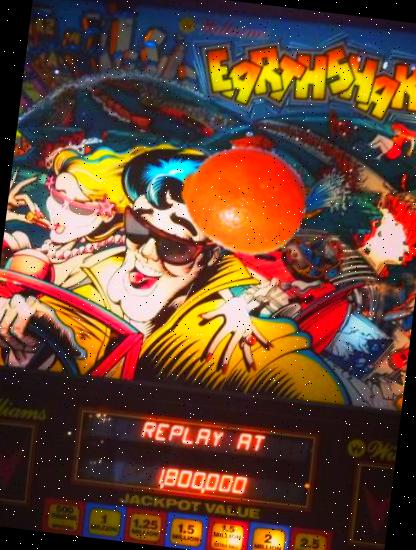Tangelo: (172, 128, 312, 268)
